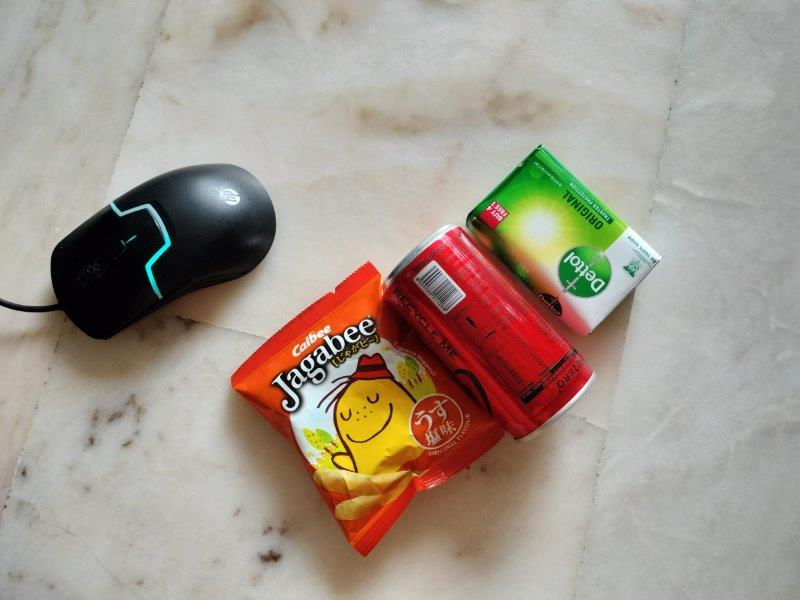Coke: (385, 224, 597, 444)
Dettol: (470, 148, 660, 338)
Jagabee: (235, 271, 500, 544)
